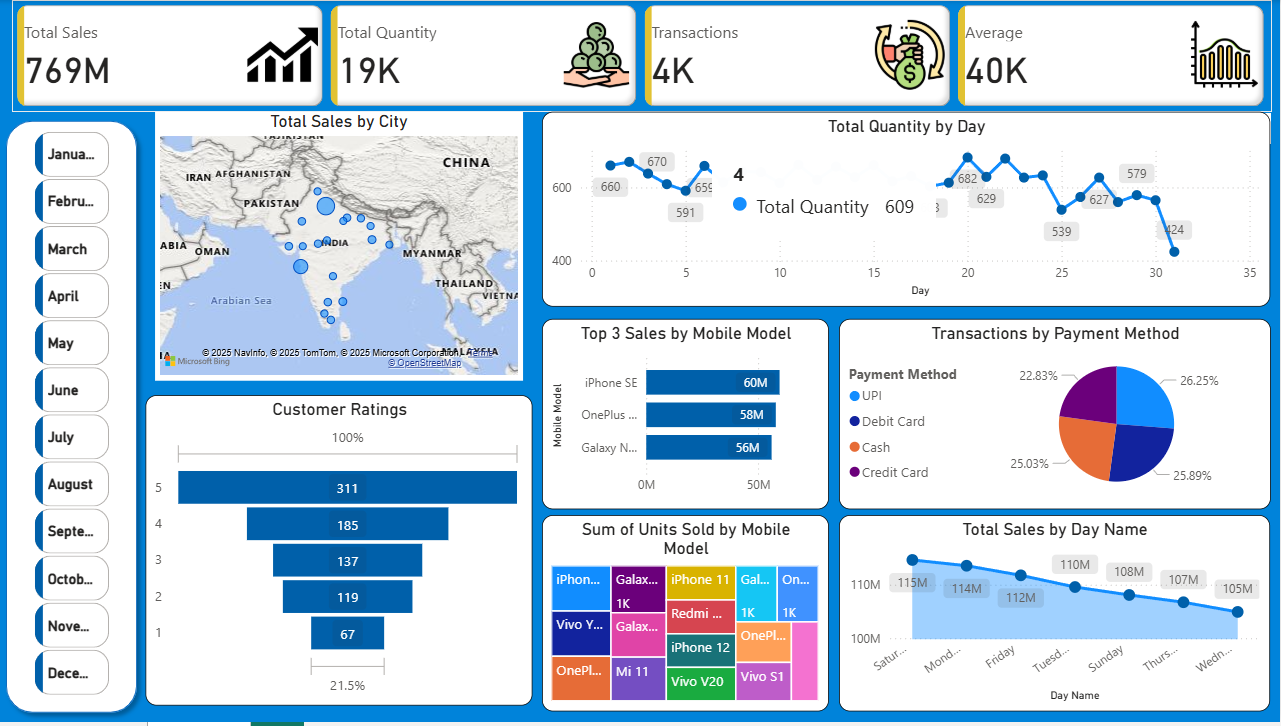

The page's visual inventory and layout, read from the dashboard file:
{"tool":"powerbi","page":{"name":"Page 1","canvas":[1280,720],"ordinal":0},"visuals":[{"type":"shape","box":[0,111.4,148.6,608.6],"z":1000},{"type":"advancedSlicerVisual","fields":{"Values":["SalesData.Date.Variation.Date Hierarchy.Month"]},"box":[32.6,126.5,84.3,578.1],"z":2000},{"type":"cardVisual","fields":{"Data":["SalesData.Total Sales","SalesData.Total Quantity","SalesData.Transactions","SalesData.Average"]},"box":[15,0,1256.9,111.5],"z":3000},{"type":"lineChart","fields":{"Category":["SalesData.Date.Variation.Date Hierarchy.Month","SalesData.Date.Variation.Date Hierarchy.Day"],"Y":["SalesData.Total Quantity"]},"box":[544.4,111.1,726.4,194.4],"z":4000},{"type":"clusteredBarChart","title":"Top 3 Sales by Mobile Model","fields":{"Category":["SalesData.Mobile Model"],"Y":["SalesData.Total Sales"]},"box":[544.4,318.1,286.1,190.3],"z":5000},{"type":"pieChart","fields":{"Category":["SalesData.Payment Method"],"Y":["SalesData.Transactions"]},"box":[840.3,318.1,430.6,190.3],"z":6000},{"type":"funnel","title":" Customer Ratings","fields":{"Category":["SalesData.Customer Ratings"],"Y":["CountNonNull(SalesData.Customer Ratings)"]},"box":[148.6,394.4,386.1,309.7],"z":7000},{"type":"areaChart","fields":{"Category":["SalesData.Day Name"],"Y":["SalesData.Total Sales"]},"box":[840.7,514.2,429.8,195.9],"z":8000},{"type":"treemap","fields":{"Group":["SalesData.Mobile Model"],"Values":["Sum(SalesData.Units Sold)"]},"box":[544.4,513.9,286.1,195.8],"z":9000},{"type":"map","fields":{"Category":["SalesData.City"],"Size":["SalesData.Total Sales"]},"box":[157.7,111.5,367,267.8],"z":10000}]}

Visuals, with their boxes in screenshot pixels (x1, y1, x2, y2), scaled from the page's 1280x720 canvas onto the 1281x726 screenshot:
shape: 0:112:149:725
advancedSlicerVisual - SalesData.Date.Variation.Date Hierarchy.Month: 33:128:117:710
cardVisual - SalesData.Total Sales x SalesData.Total Quantity: 15:0:1273:112
lineChart - SalesData.Date.Variation.Date Hierarchy.Month x SalesData.Date.Variation.Date Hierarchy.Day: 545:112:1272:308
"Top 3 Sales by Mobile Model" clusteredBarChart: 545:321:831:513
pieChart - SalesData.Payment Method x SalesData.Transactions: 841:321:1272:513
" Customer Ratings" funnel: 149:398:535:710
areaChart - SalesData.Day Name x SalesData.Total Sales: 841:518:1271:716
treemap - SalesData.Mobile Model x Sum(SalesData.Units Sold): 545:518:831:716
map - SalesData.City x SalesData.Total Sales: 158:112:525:382
